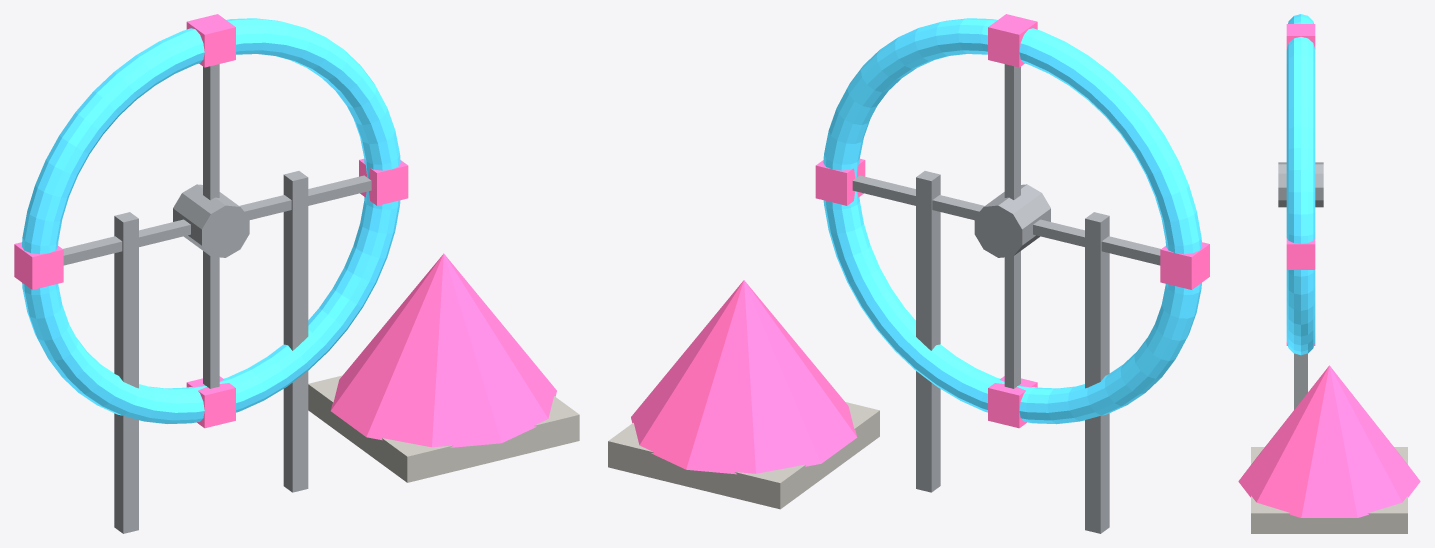
Rendered from amusement.glb.
3 renders of one model, left to right at view 1: azimuth 30°, elevation 25°; view 2: azimuth 150°, elevation 25°; view 3: azimuth 270°, elevation 25°, orthographic. The views are drawn at different scales.
Parts seen in each view (by area): view 1: amusement; view 2: amusement; view 3: amusement.
Boxes of the visible parts, x1=… form: amusement: x1=14, y1=14, x2=579, y2=533; amusement: x1=608, y1=14, x2=1209, y2=533; amusement: x1=1238, y1=14, x2=1420, y2=533.
Bounding box in the file's own units: 1.7 × 1.48 × 0.64.
